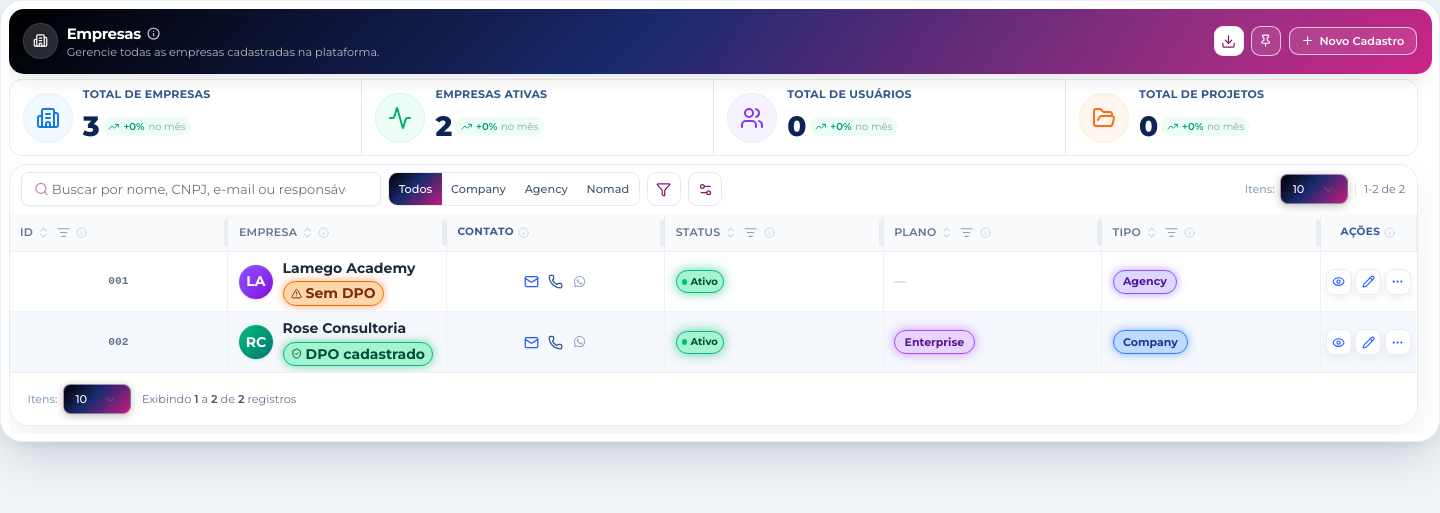
Test: admin/empresas — ID normalizado e filtros de coluna › exibe 001/002 sem prefixo e mantém opções de ID após filtrar
Expected: the text "001" is shown, 108,275 -> 129,287
Expected: the text "002" is shown, 108,336 -> 129,348
Click the button named "Opções da coluna ID": {"x": 63, "y": 232} 54,223 -> 73,242
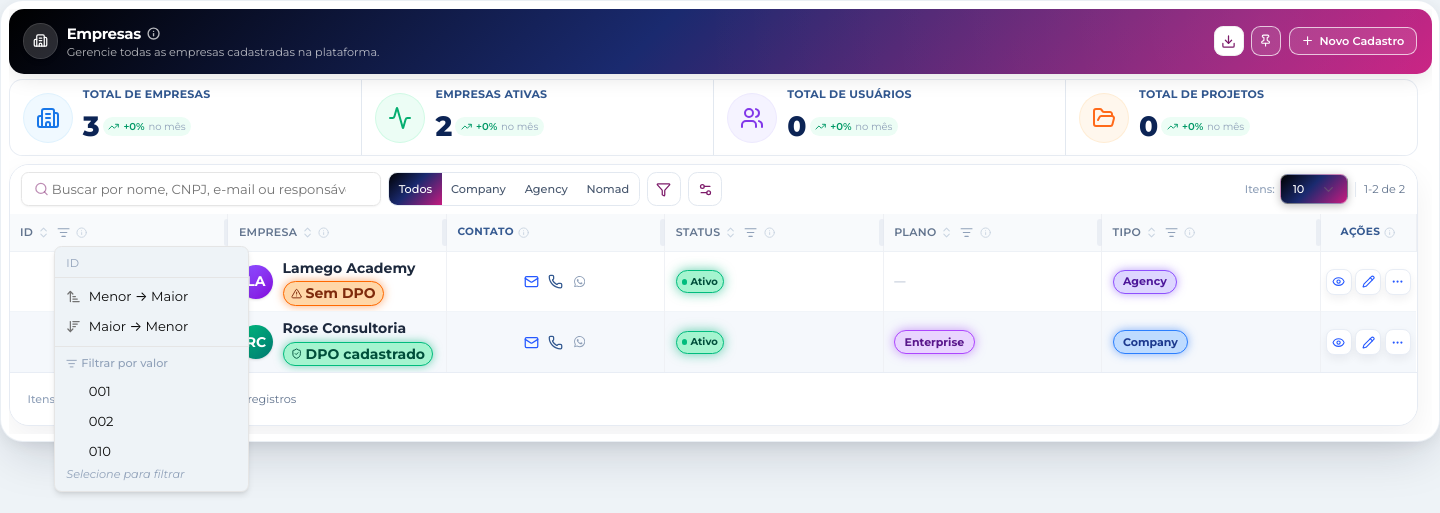
Click the menu item "002": {"x": 101, "y": 421} 89,413 -> 114,429
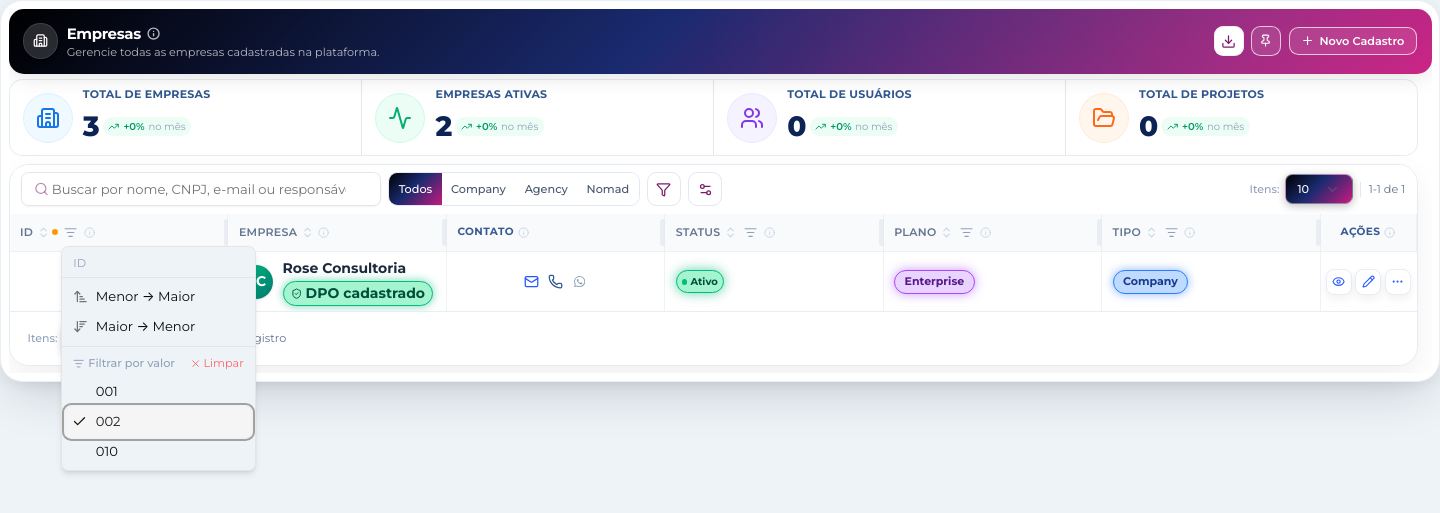
Expected: the row that starts with "Rose Consultoria" is shown, 283,259 -> 406,277
Expected: the menu item "002" is checked, 66,406 -> 251,436
Expected: the text "Lamego Academy" is gone
